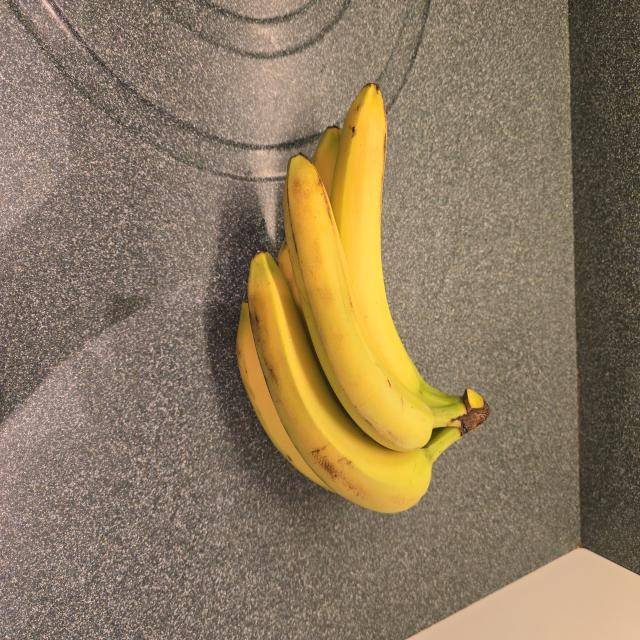Banana: (231, 80, 490, 519)
